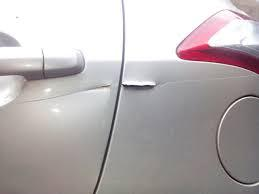scratch: (117, 75, 167, 93)
